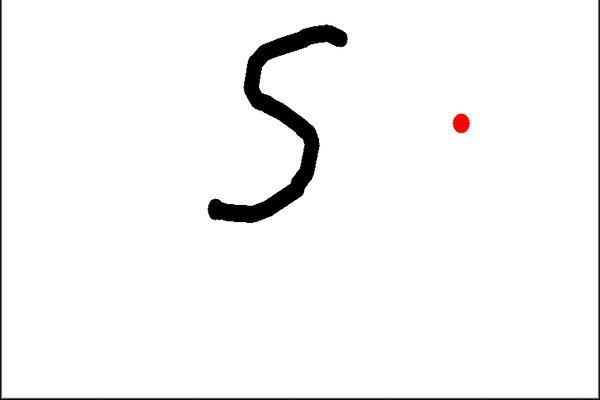S: (185, 21, 360, 230)
